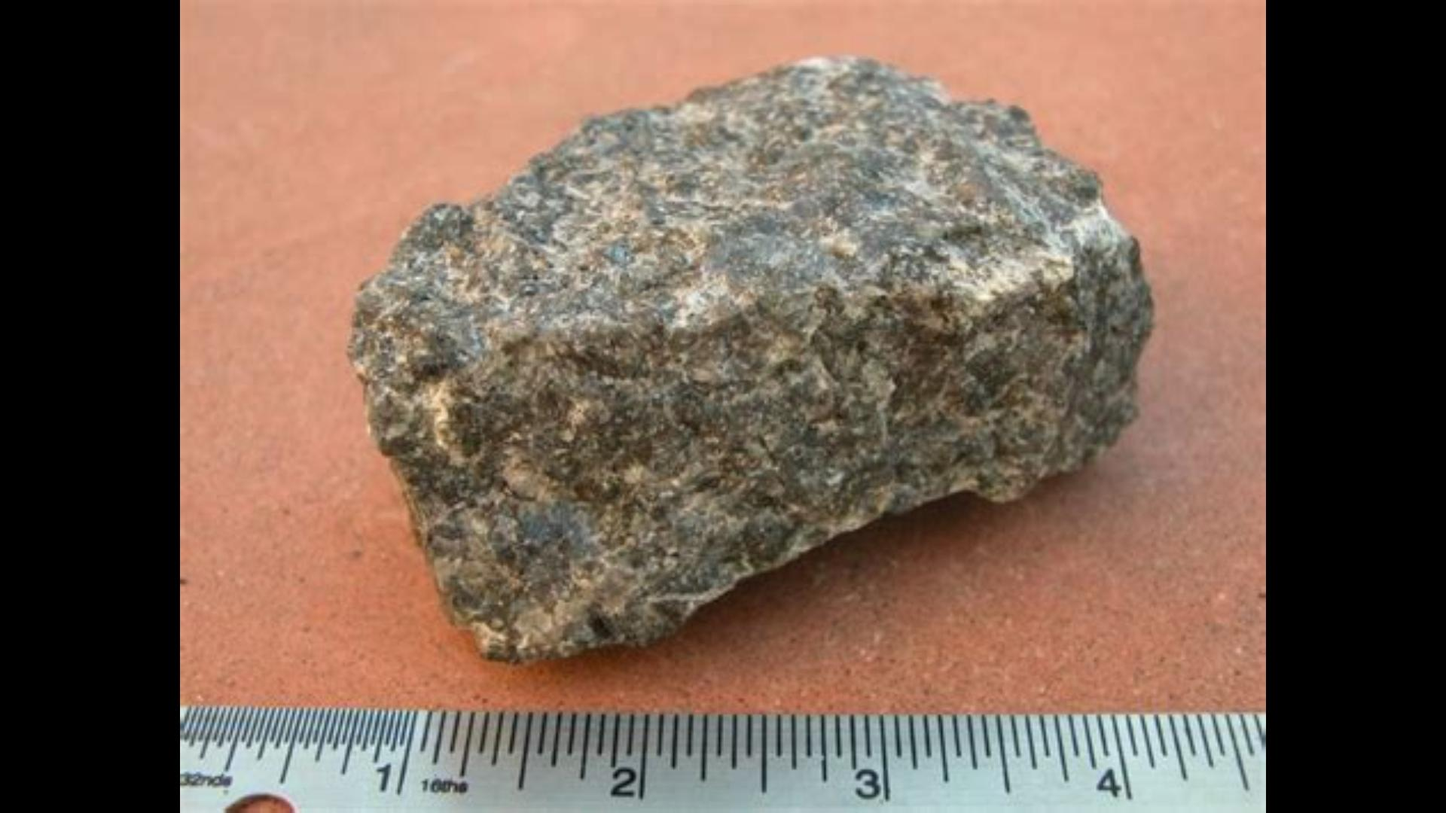rock: (350, 60, 1149, 655)
